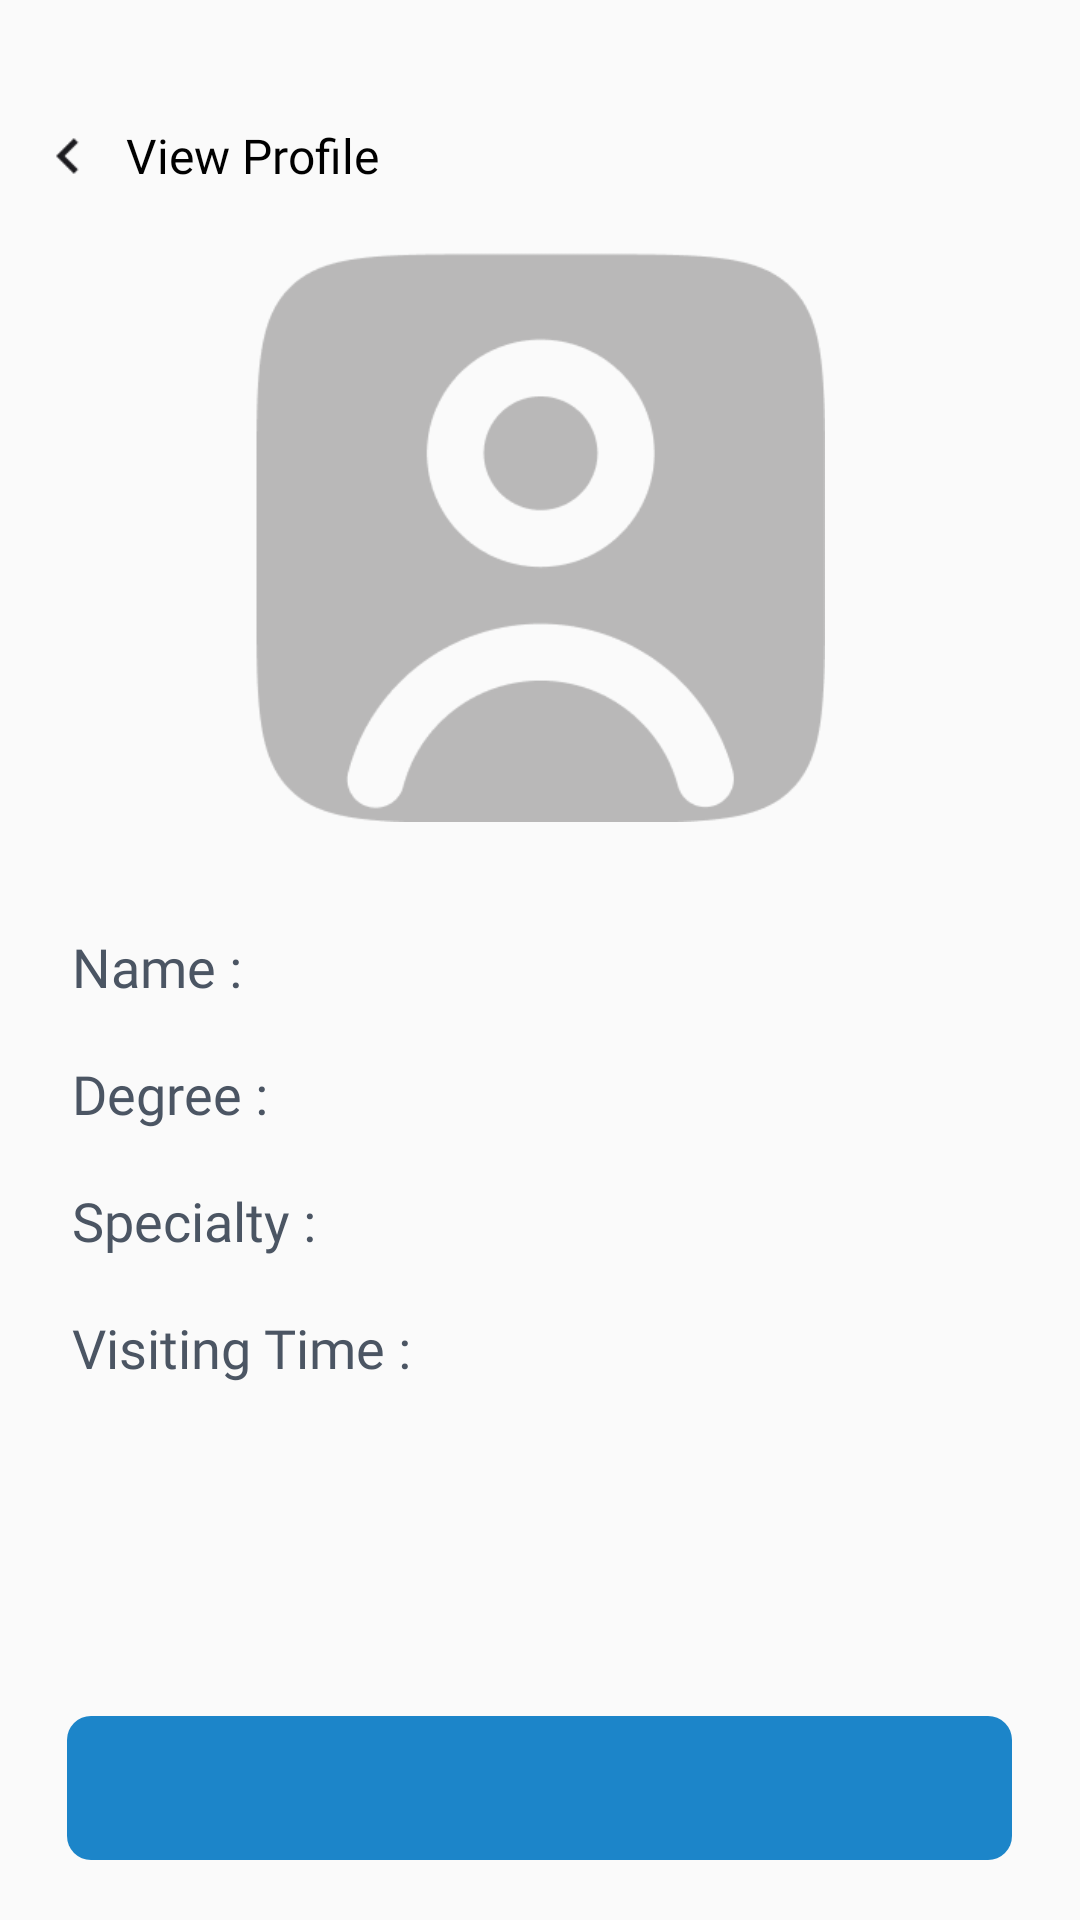

Screen size 1080w x 1920h. Icon name, then its box in pixels as box=[x1, y1, x2, y2]:
back: box=[56, 138, 79, 174]
